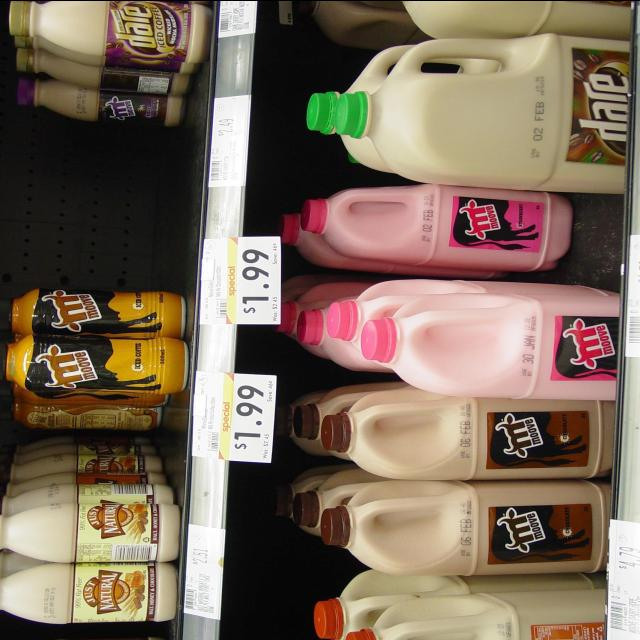empty_space: (9, 128, 190, 284)
